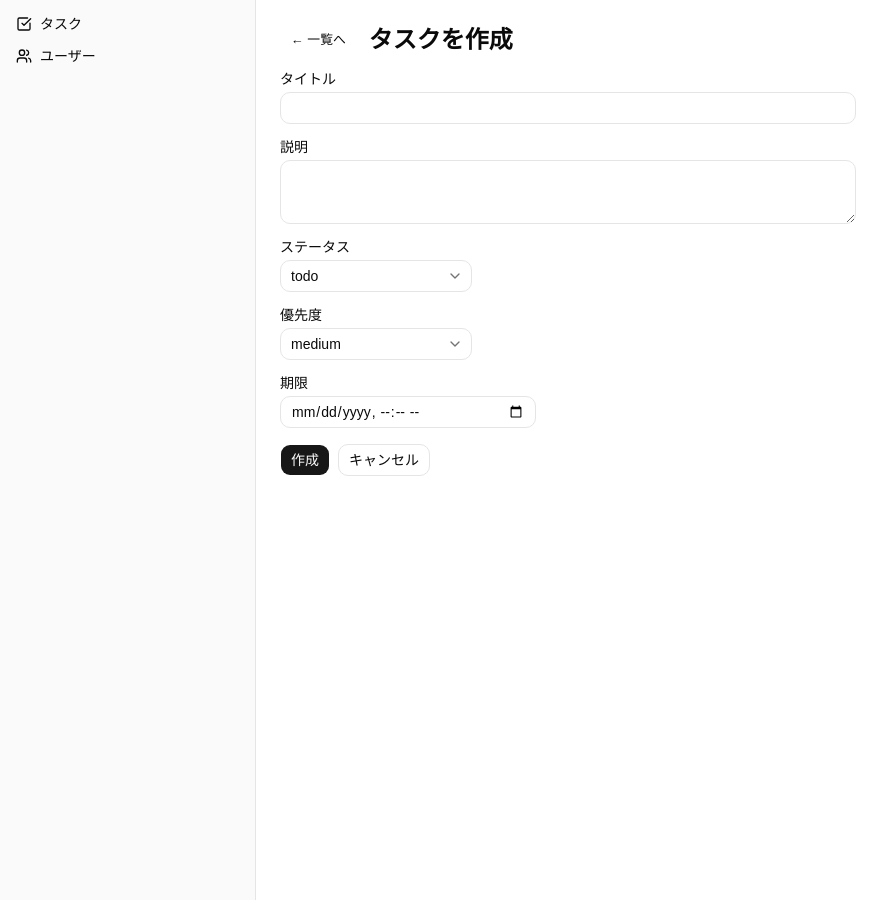
TaskForm (create) › shows a title error and does not POST when title is empty
expect the form with test id "task-form" is shown: met, box [280,72,856,476]
Click the button with test id "task-form-submit": x=305, y=460 [280,444,330,476]
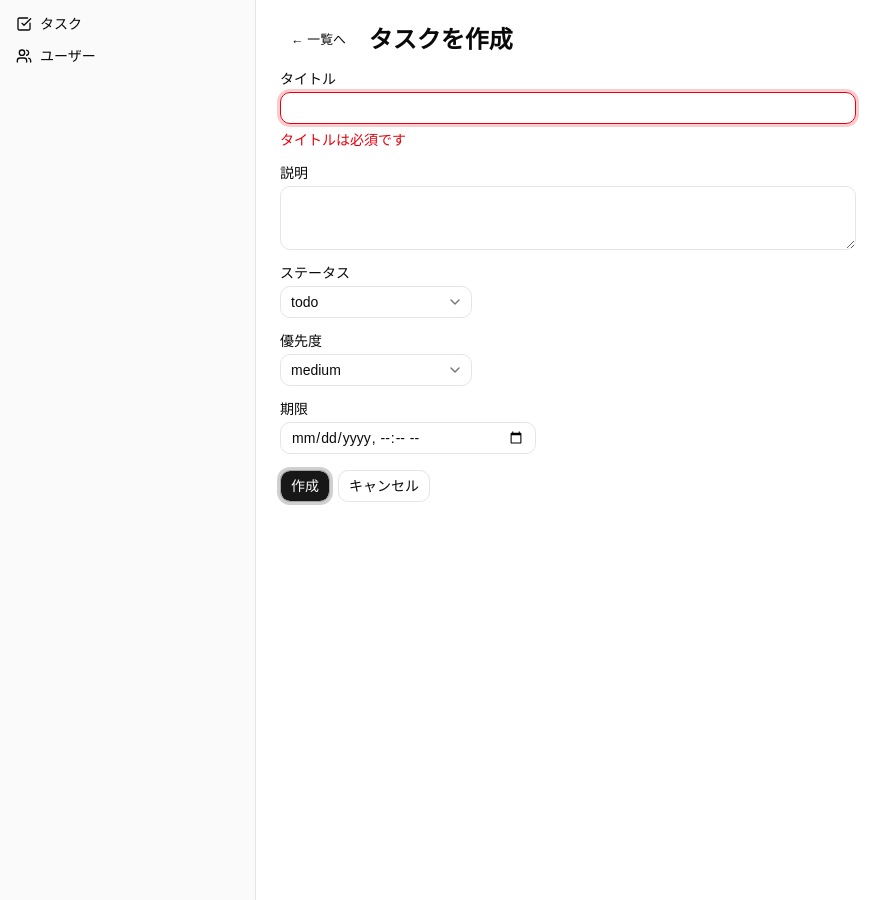
expect the text "タイトルは必須です" is shown: met, box [280,132,406,148]
